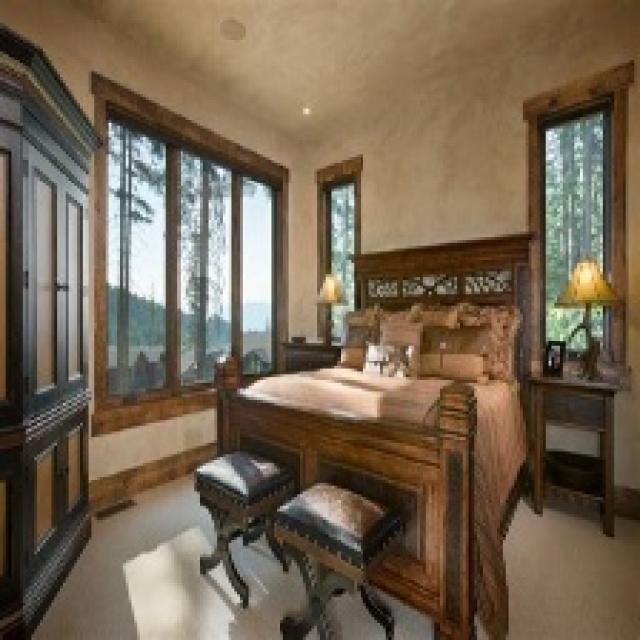Bed: (212, 229, 534, 637)
